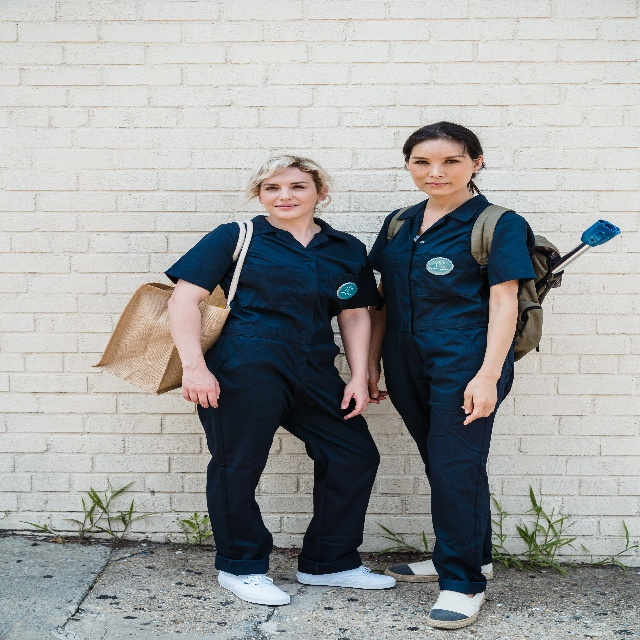Sin_guantes: (461, 371, 501, 424), (182, 365, 221, 406), (338, 374, 372, 419), (367, 364, 388, 405)
